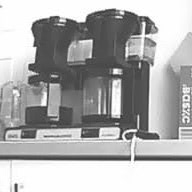not empty coffee: (79, 64, 132, 125)
